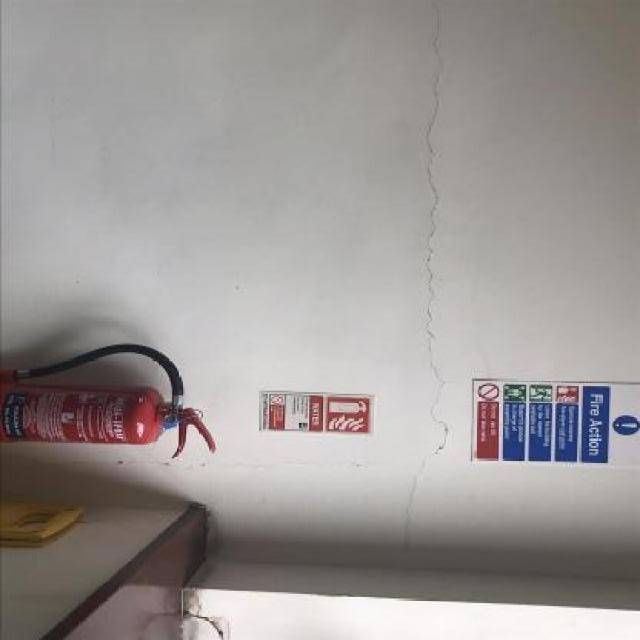fire extinguisher: (0, 344, 216, 461)
